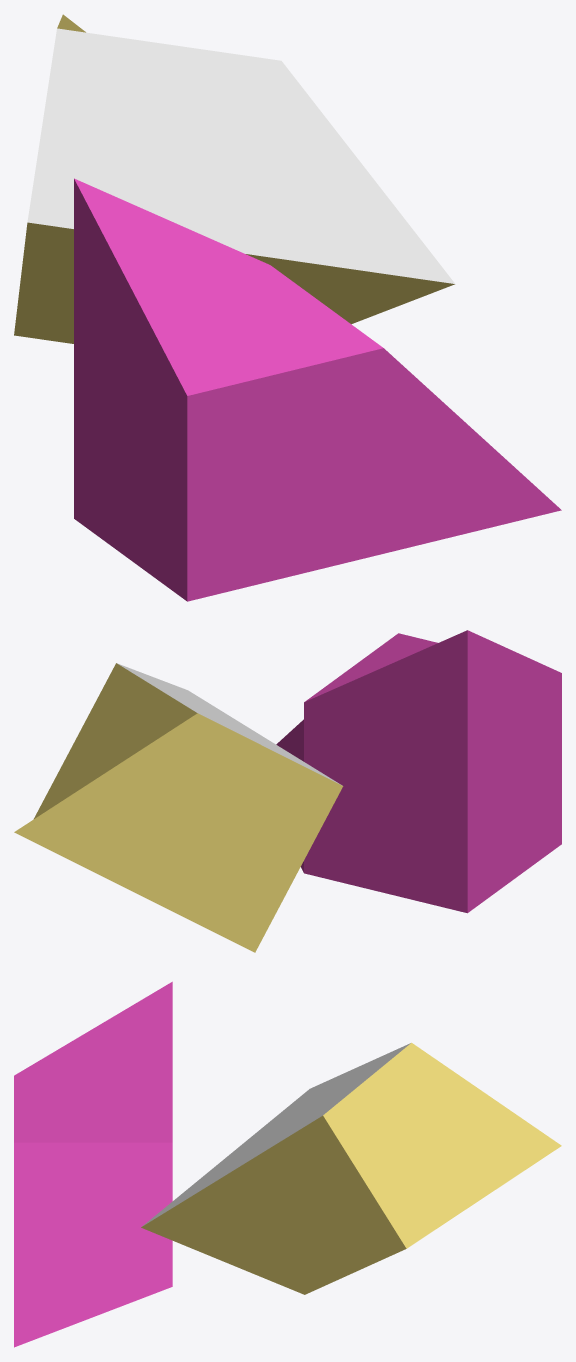
File: testCube.gltf
3 views of the same model, one above another, from view 1: azimuth 30°, elevation 25°; view 2: azimuth 150°, elevation 25°; view 3: azimuth 270°, elevation 25° (orthographic). The views are drawn at different scales.
Parts seen in each view (by area): view 1: glossyCube, roughCube; view 2: glossyCube, roughCube; view 3: roughCube, glossyCube.
Part boxes in pixels (box(x1,y1,x2,y2)): glossyCube: box(74, 178, 561, 601); roughCube: box(14, 14, 455, 343); glossyCube: box(276, 630, 561, 913); roughCube: box(14, 663, 343, 952); roughCube: box(141, 1042, 561, 1294); glossyCube: box(14, 981, 172, 1347).
Bounding box in the file's own units: 5.4 × 4.69 × 9.77.
